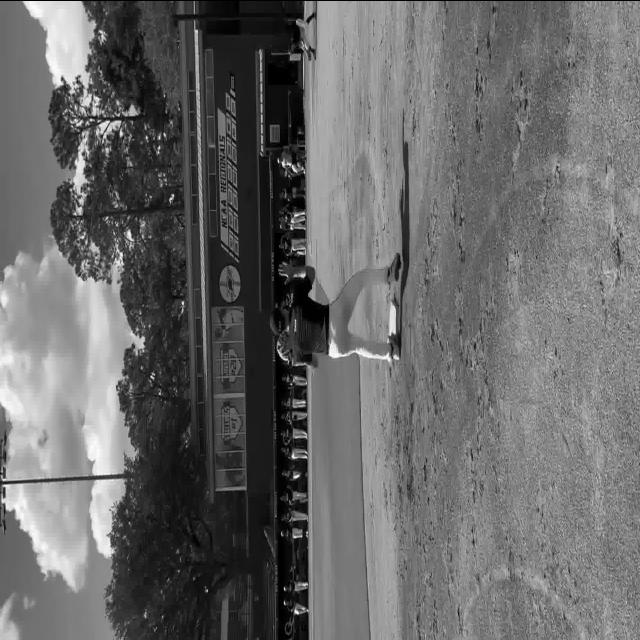base: (389, 298, 399, 335)
baseball_glove: (276, 331, 292, 360)
shoe: (386, 251, 401, 282), (389, 333, 401, 360)
